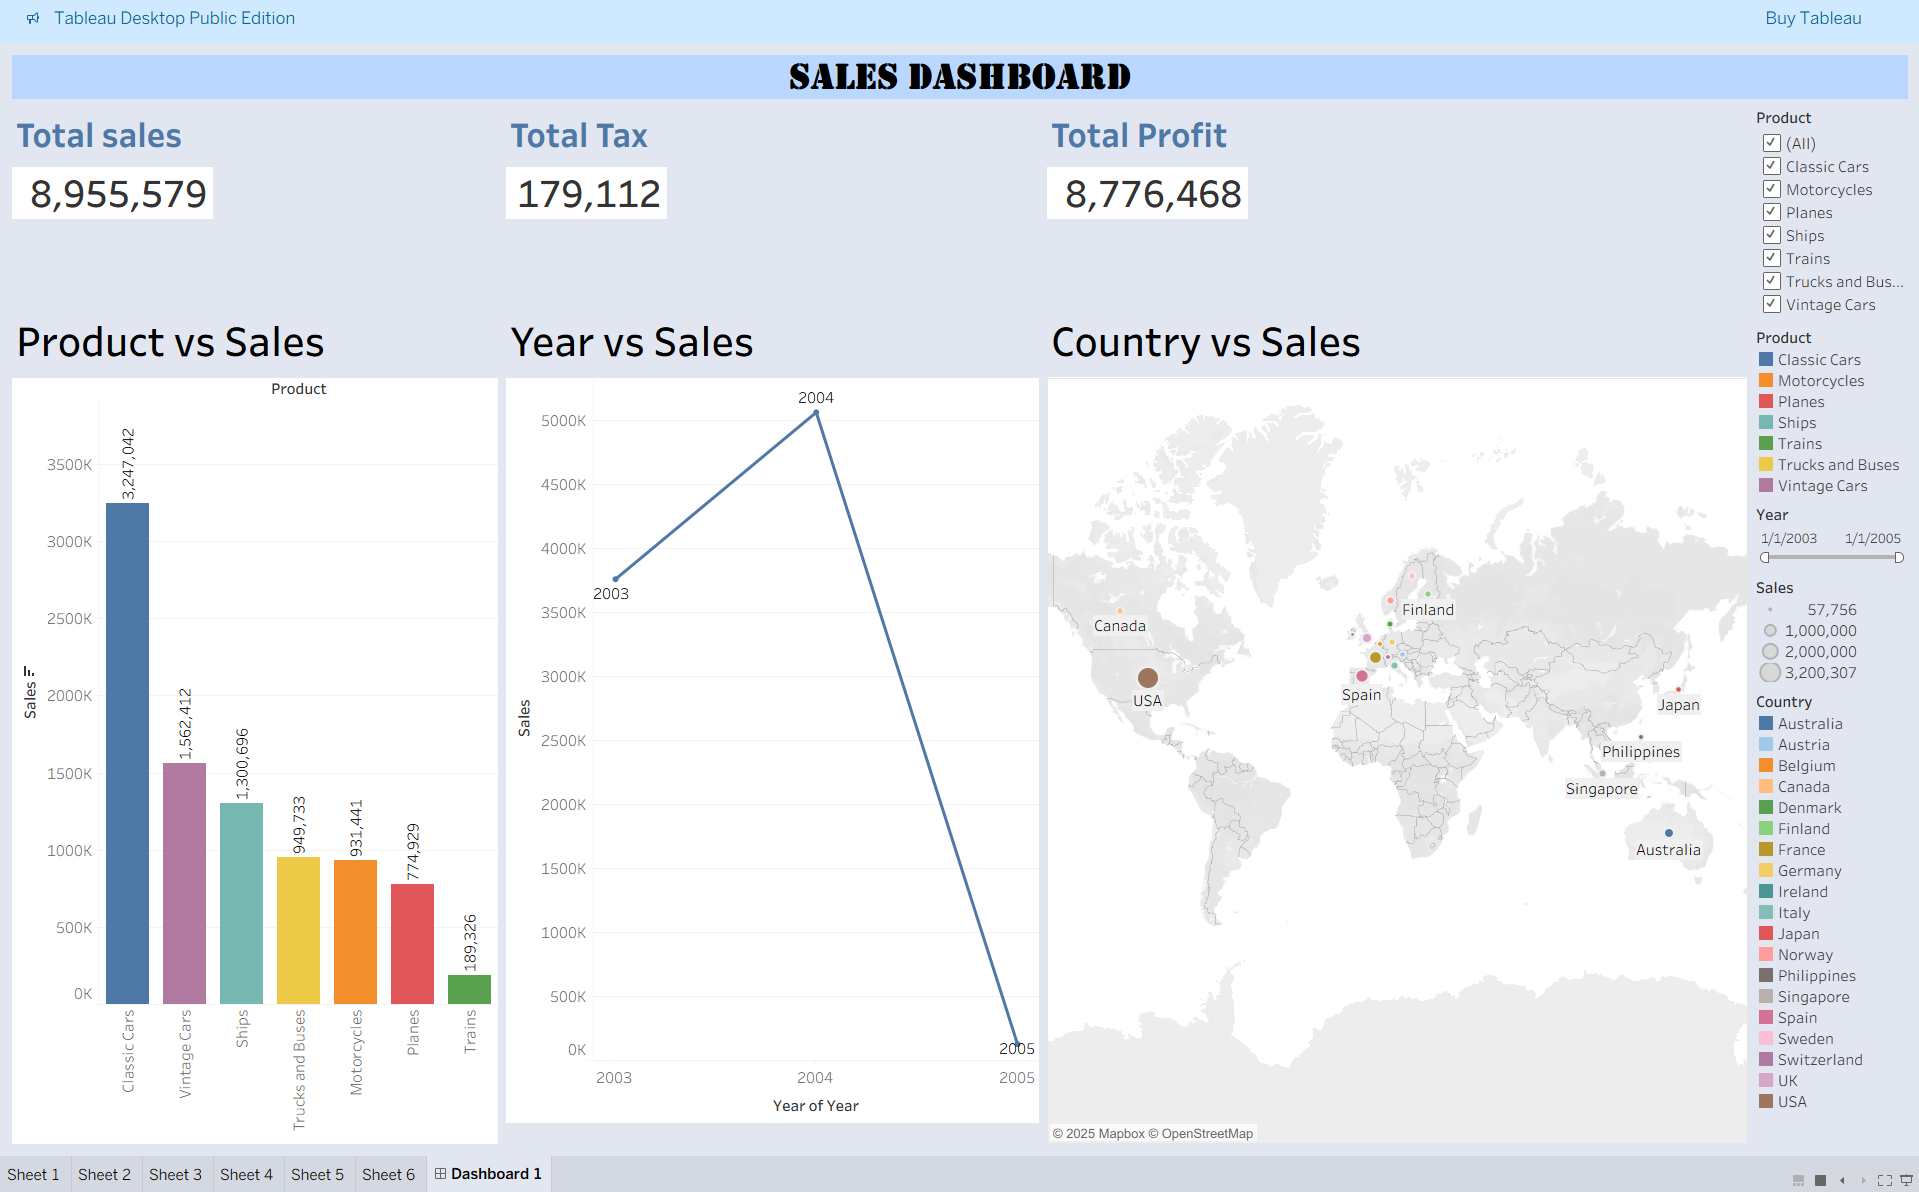

The dashboard page shown, as its layout file describes it:
{"tool":"tableau","page":{"name":"Dashboard 1","canvas":[1000,1000],"units":"permille","ordinal":0},"visuals":[{"type":"title","box":[4.8,8.7,990.3,56.5]},{"type":"worksheet","title":"Sheet 4","mark":"Automatic","box":[4.8,65.2,253.2,178.4]},{"type":"worksheet","title":"Sheet 5","mark":"Automatic","box":[258,65.2,277.3,178.4]},{"type":"worksheet","title":"Sheet 6","mark":"Automatic","box":[535.3,65.2,363.3,178.4]},{"type":"filter","title":"Sheet 1","param":"[federated.0dzew610lonhbp1bmwzcg0vuh312].[none:Product:nk]","box":[898.6,65.2,96.6,238.9]},{"type":"worksheet","title":"Sheet 1","mark":"Automatic","rows":["SALES"],"cols":["Product"],"box":[4.8,243.5,253.2,747.8]},{"type":"worksheet","title":"Sheet 2","mark":"Automatic","rows":["SALES"],"cols":["Year"],"box":[258,243.5,277.3,747.8]},{"type":"worksheet","title":"Sheet 3","mark":"Automatic","box":[535.3,243.5,363.3,747.8]},{"type":"legend","title":"Sheet 1","param":"[federated.0dzew610lonhbp1bmwzcg0vuh312].[none:Product:nk]","box":[898.6,304,96.6,192.2]},{"type":"filter","title":"Sheet 2","param":"[federated.0dzew610lonhbp1bmwzcg0vuh312].[none:Year:qk]","box":[898.6,496.2,96.6,79.3]},{"type":"legend","title":"Sheet 3","param":"[federated.0dzew610lonhbp1bmwzcg0vuh312].[sum:SALES:qk]","box":[898.6,575.5,96.6,123.8]},{"type":"legend","title":"Sheet 3","param":"[federated.0dzew610lonhbp1bmwzcg0vuh312].[none:COUNTRY:nk]","box":[898.6,699.3,96.6,292.1]}]}

Visuals, with their boxes on the dashboard's canvas, which has no fixed pixel size, in thousandths of its width and height (x1, y1, x2, y2). These are canvas units, not pixel positions in the 1919x1192 screenshot, which may show the page scaled, cropped or inside an application window:
title: bbox(5, 9, 995, 65)
"Sheet 4" worksheet: bbox(5, 65, 258, 244)
"Sheet 5" worksheet: bbox(258, 65, 535, 244)
"Sheet 6" worksheet: bbox(535, 65, 899, 244)
"Sheet 1" filter: bbox(899, 65, 995, 304)
"Sheet 1" worksheet: bbox(5, 244, 258, 991)
"Sheet 2" worksheet: bbox(258, 244, 535, 991)
"Sheet 3" worksheet: bbox(535, 244, 899, 991)
"Sheet 1" legend: bbox(899, 304, 995, 496)
"Sheet 2" filter: bbox(899, 496, 995, 576)
"Sheet 3" legend: bbox(899, 576, 995, 699)
"Sheet 3" legend: bbox(899, 699, 995, 991)
